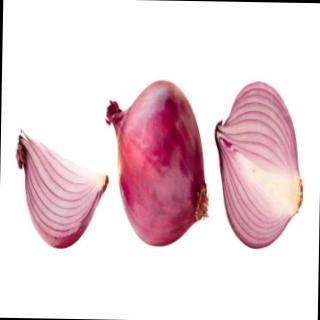Bawang Merah: (102, 76, 215, 252)
